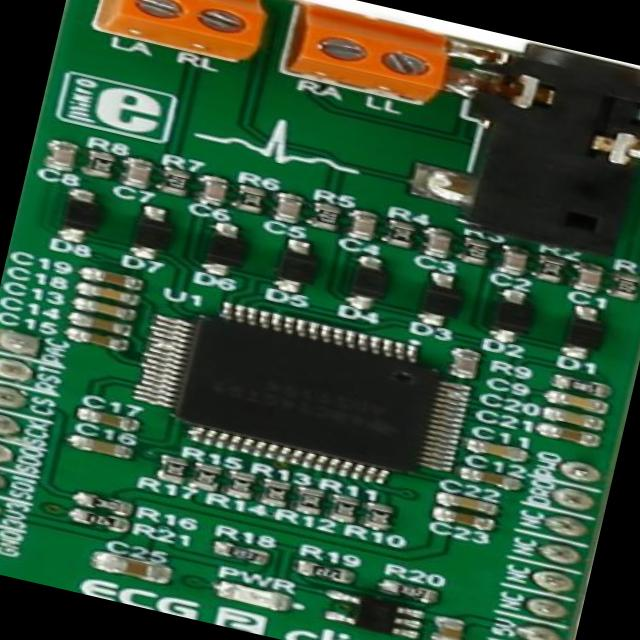IC: (150, 299, 460, 491), (334, 592, 414, 640)
LED: (218, 578, 290, 613)
capacitor: (101, 554, 166, 584), (540, 422, 596, 447), (441, 508, 496, 532), (76, 436, 126, 461), (90, 266, 140, 290), (82, 409, 134, 432), (86, 282, 134, 306), (474, 440, 524, 462), (558, 392, 606, 414), (46, 144, 82, 172), (447, 494, 492, 516), (572, 264, 606, 292), (80, 312, 123, 334), (434, 617, 475, 640), (469, 470, 516, 490), (84, 300, 127, 320), (124, 163, 154, 191), (446, 352, 481, 376), (554, 409, 596, 428), (74, 329, 118, 347), (498, 248, 530, 272), (273, 195, 300, 221), (424, 232, 454, 255), (350, 214, 376, 239), (200, 181, 224, 203)
connector: (441, 30, 640, 262), (280, 4, 450, 110), (86, 0, 268, 68)
diode: (51, 188, 110, 251), (484, 289, 542, 345), (345, 260, 400, 318), (196, 224, 252, 280), (124, 208, 176, 267), (557, 309, 610, 363), (414, 275, 466, 326), (278, 244, 322, 299)
resistor: (382, 578, 433, 603), (218, 542, 269, 566), (302, 560, 352, 584), (154, 454, 188, 488), (556, 374, 600, 398), (193, 464, 224, 495), (235, 186, 268, 214), (82, 491, 124, 513), (364, 504, 394, 534), (224, 474, 256, 502), (297, 488, 329, 516), (81, 509, 123, 530), (386, 221, 418, 248), (533, 257, 565, 284), (310, 204, 345, 228), (87, 150, 114, 180), (461, 238, 494, 262), (163, 168, 190, 196), (262, 482, 292, 507), (331, 496, 356, 524), (611, 272, 640, 296)
